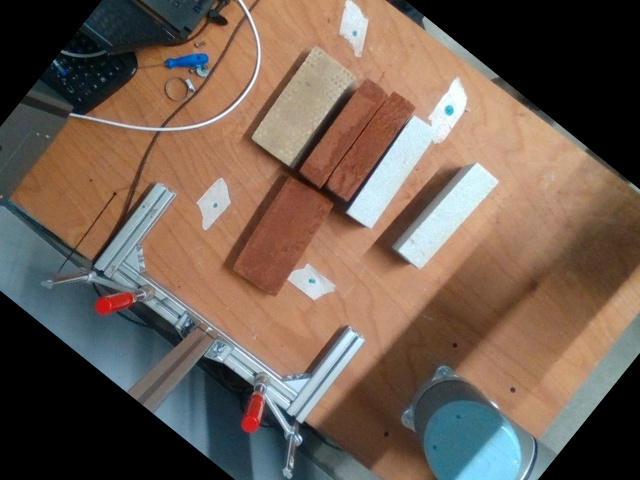brick: (251, 47, 354, 164), (233, 178, 333, 295)
brick-side: (399, 161, 497, 267), (347, 116, 436, 227), (325, 89, 413, 198), (299, 76, 386, 184)
